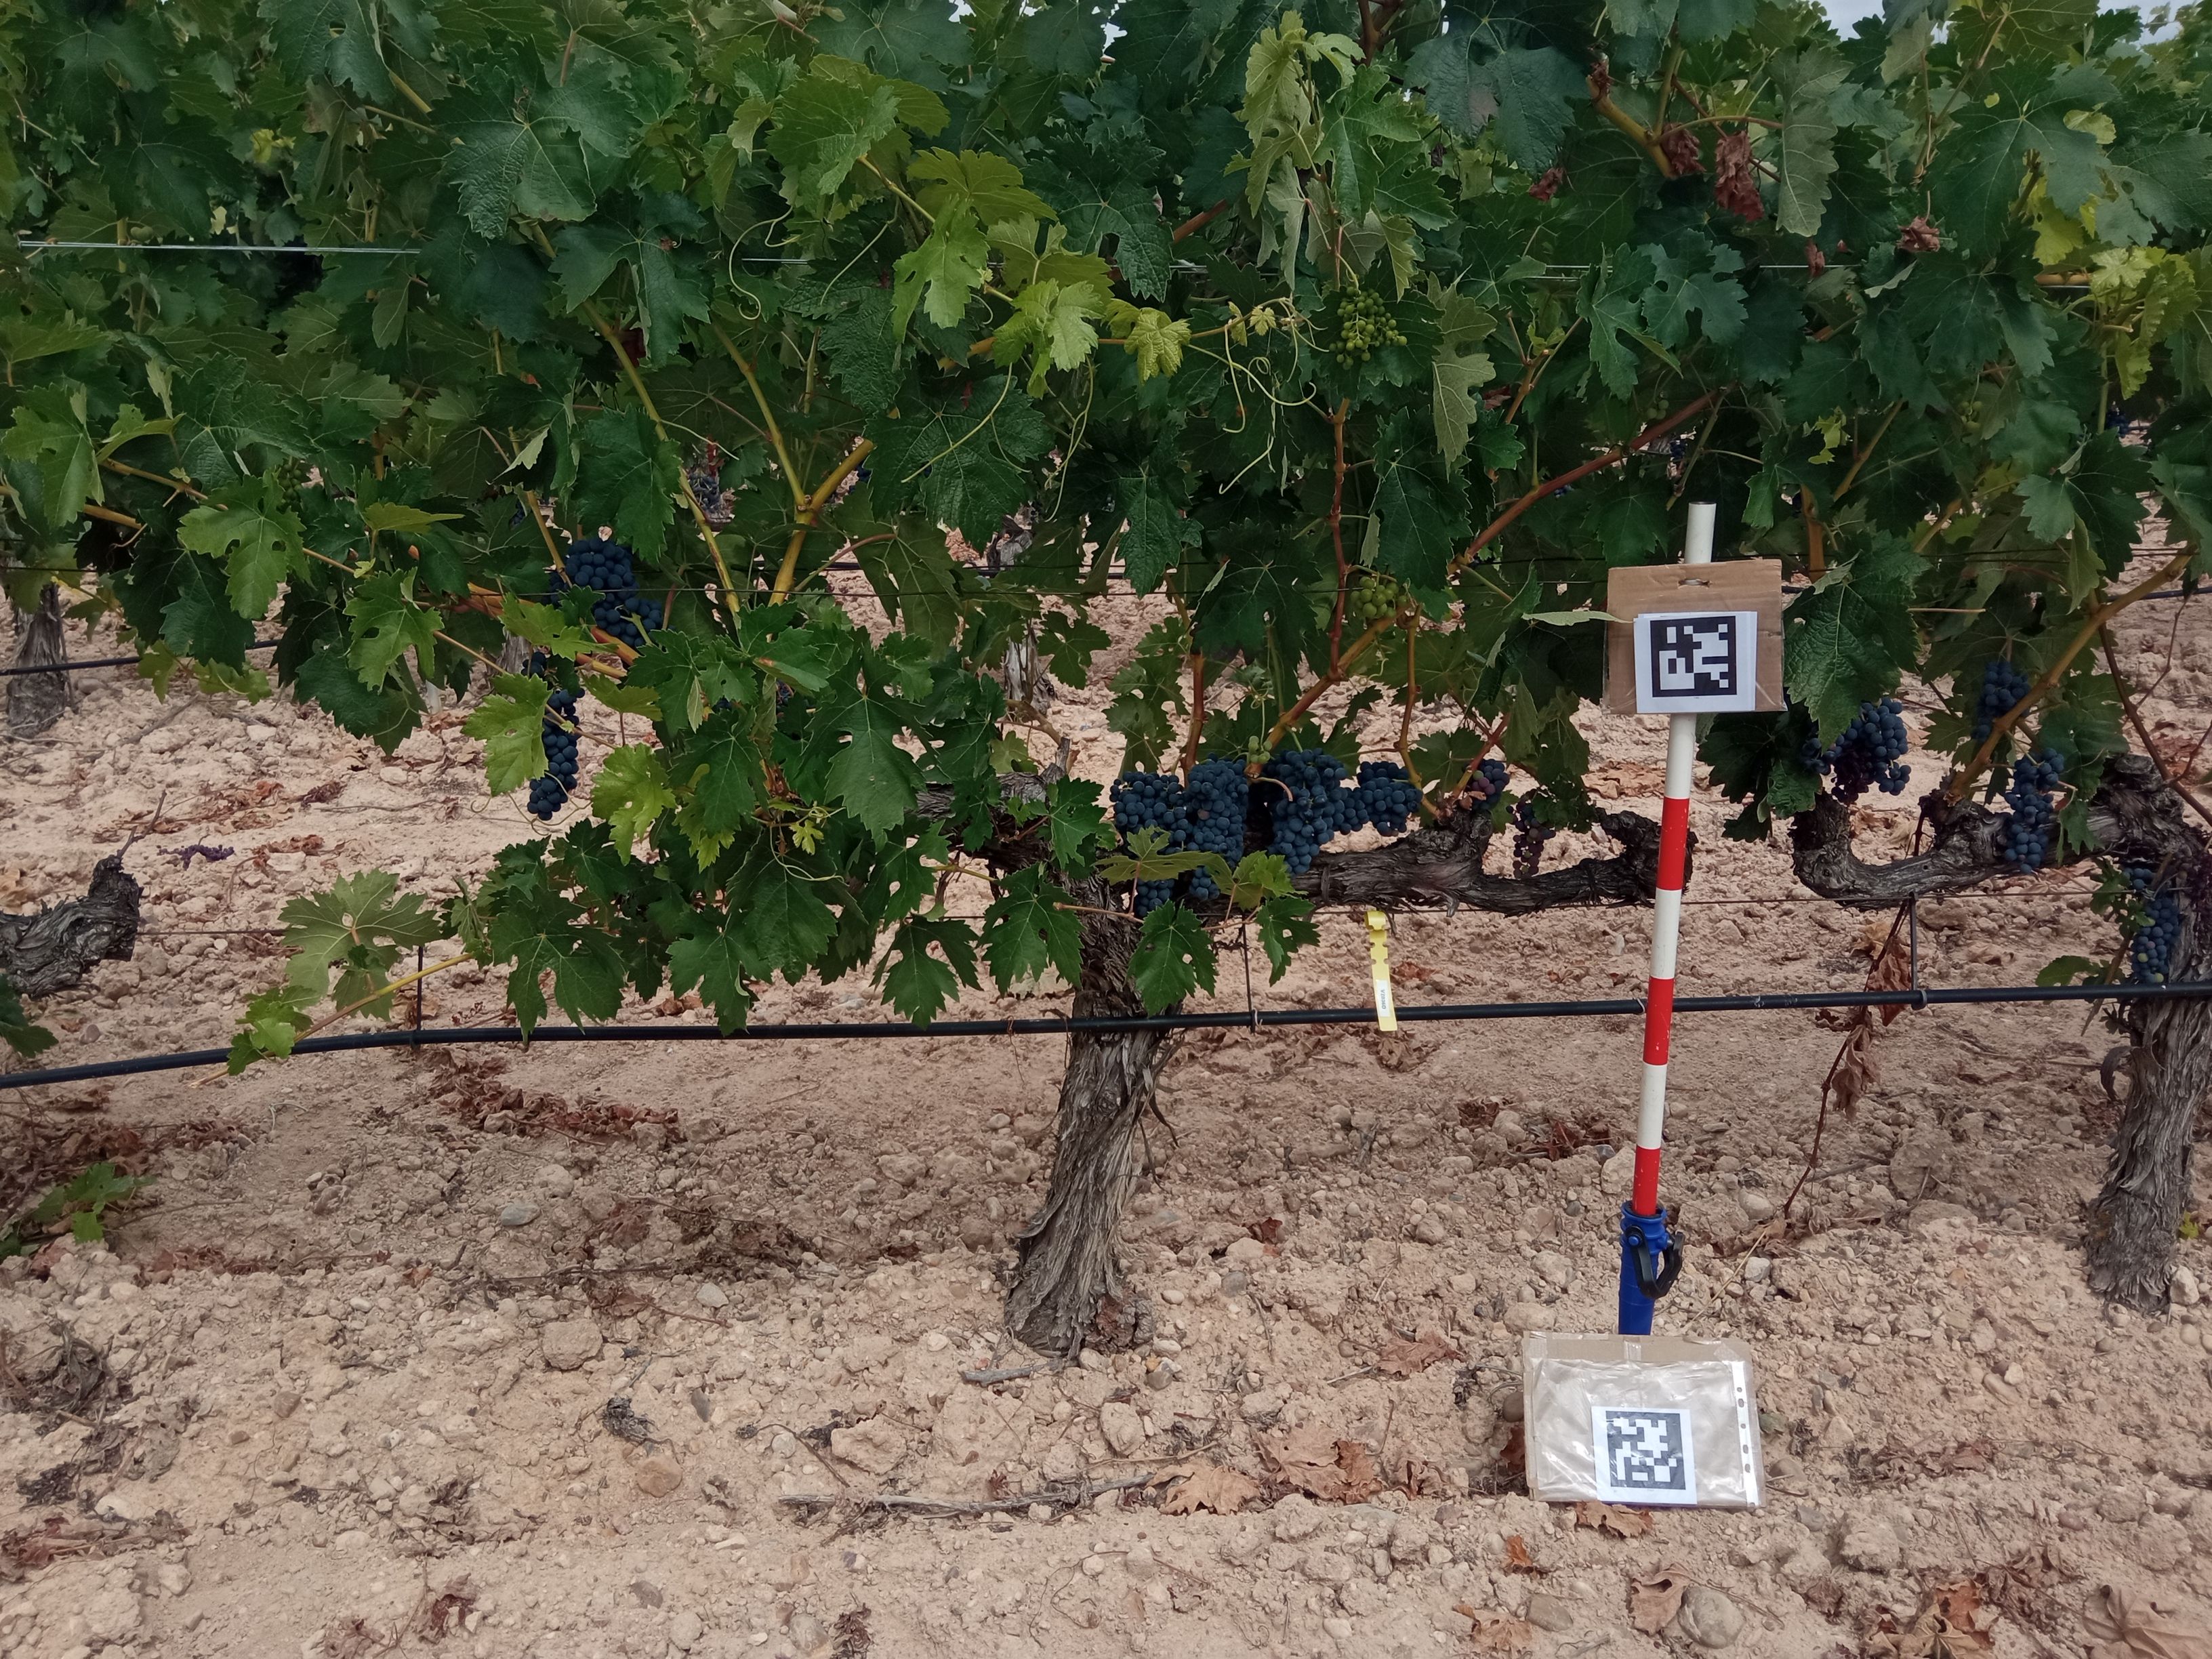grapes: (1797, 695, 1912, 803), (566, 538, 665, 647), (1264, 749, 1353, 870), (1115, 775, 1188, 918), (1186, 753, 1247, 906), (2006, 748, 2066, 877), (1329, 284, 1411, 369), (2121, 868, 2179, 985), (1359, 760, 1425, 836), (526, 725, 578, 821), (1970, 660, 2031, 741), (1508, 795, 1555, 878), (1458, 758, 1514, 807), (1350, 577, 1411, 613), (547, 690, 583, 727), (1956, 397, 1986, 434), (280, 464, 303, 507), (1642, 396, 1669, 422), (519, 652, 547, 676), (1247, 735, 1271, 763), (547, 580, 571, 605)
